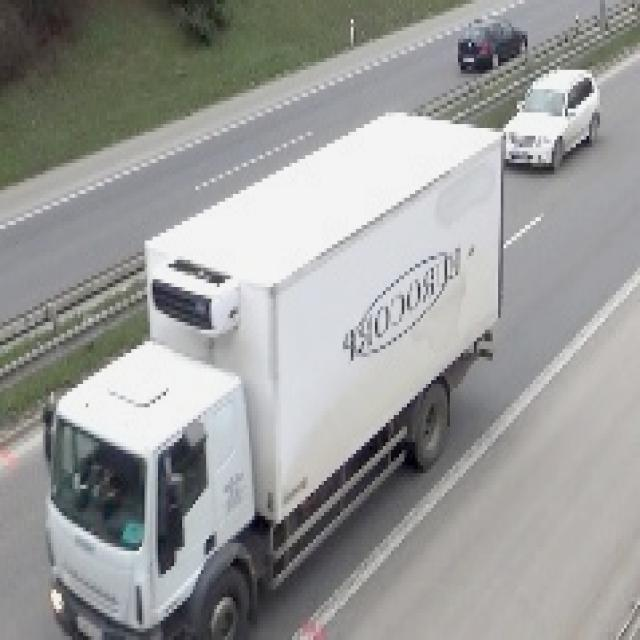truck: (41, 98, 502, 637)
